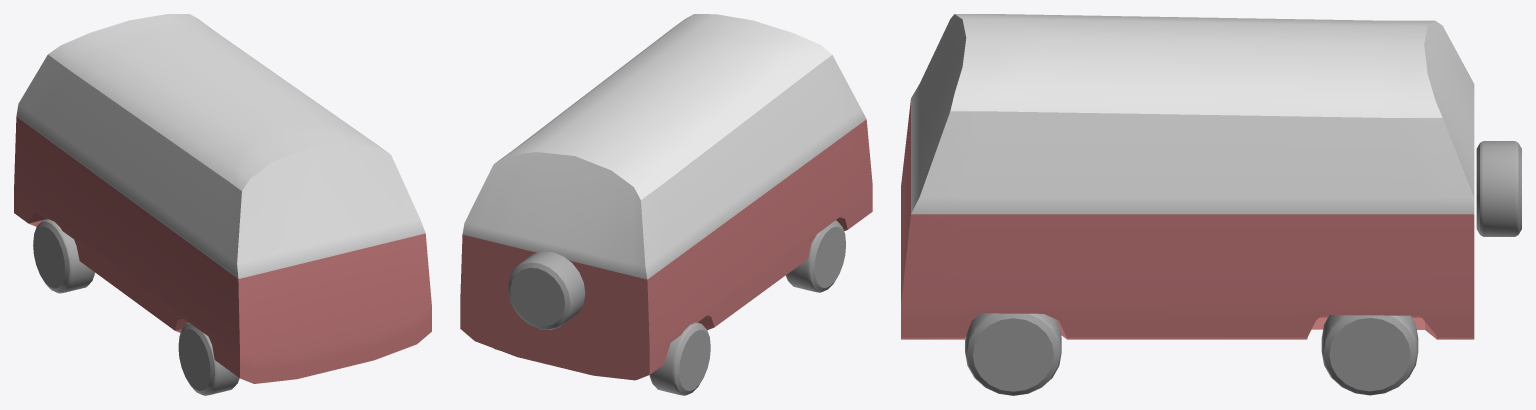
3 views of the same model, side by side, from view 1: azimuth 30°, elevation 25°; view 2: azimuth 150°, elevation 25°; view 3: azimuth 270°, elevation 25° (orthographic). The views are drawn at different scales.
Visible parts, largest first — view 1: pCube1, pasted__pCylinder1, pasted__pCylinder2; view 2: pCube1, pasted__pCylinder5, pasted__pCylinder1, pasted__pCylinder2; view 3: pCube1, pasted__pCylinder3, pasted__pCylinder4, pasted__pCylinder5.
Boxes of the visible parts, <box> form: pCube1: <box>14,14,431,383</box>; pasted__pCylinder1: <box>33,219,94,293</box>; pasted__pCylinder2: <box>178,322,239,395</box>; pCube1: <box>460,14,872,380</box>; pasted__pCylinder5: <box>507,251,585,329</box>; pasted__pCylinder1: <box>649,322,710,395</box>; pasted__pCylinder2: <box>786,220,845,292</box>; pCube1: <box>901,14,1474,339</box>; pasted__pCylinder3: <box>965,313,1061,395</box>; pasted__pCylinder4: <box>1321,315,1418,395</box>; pasted__pCylinder5: <box>1476,141,1521,236</box>.
Bounding box in the file's own units: 4.03 × 4.62 × 8.63.
